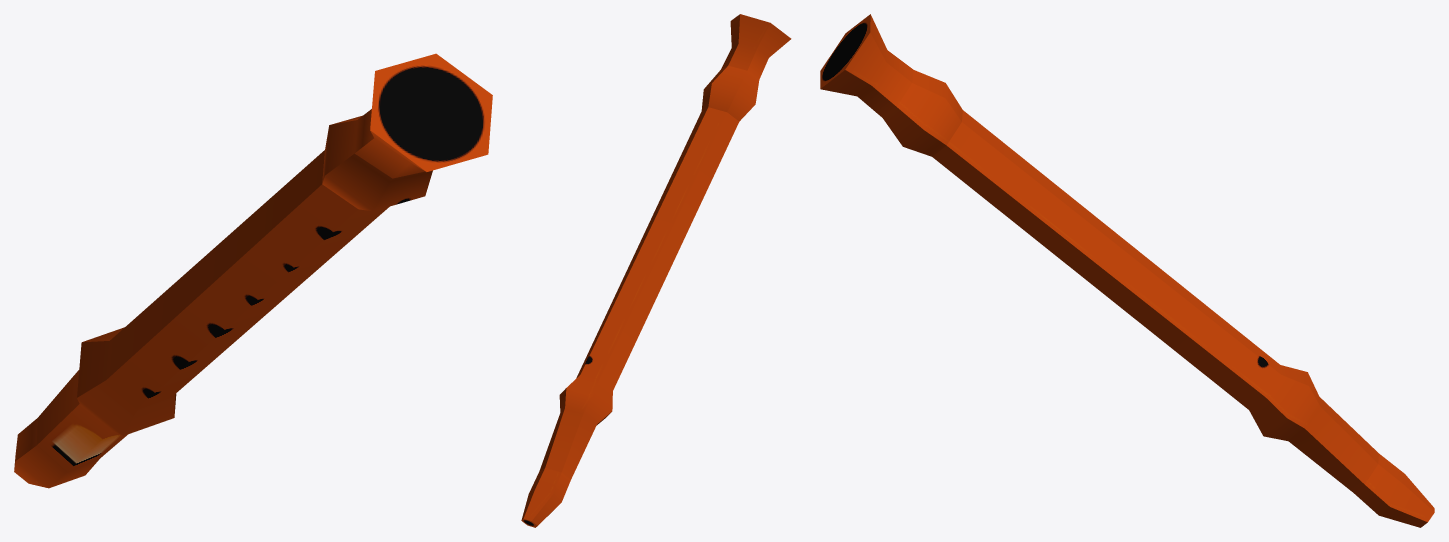
Rendered from flauta2_000013.obj.
3 views of the same model, side by side, from view 1: azimuth 30°, elevation 25°; view 2: azimuth 150°, elevation 25°; view 3: azimuth 270°, elevation 25° (orthographic). The views are drawn at different scales.
Visible parts, largest first — view 1: f2_Flauta_1:pCylinder3; view 2: f2_Flauta_1:pCylinder3; view 3: f2_Flauta_1:pCylinder3.
Boxes of the visible parts, box(x1,y1,x2,y2) form: f2_Flauta_1:pCylinder3: box(14, 53, 492, 488); f2_Flauta_1:pCylinder3: box(521, 14, 791, 527); f2_Flauta_1:pCylinder3: box(820, 14, 1434, 527).
Size of the model in its own units: 0.6999 by 3.58 by 4.06.
